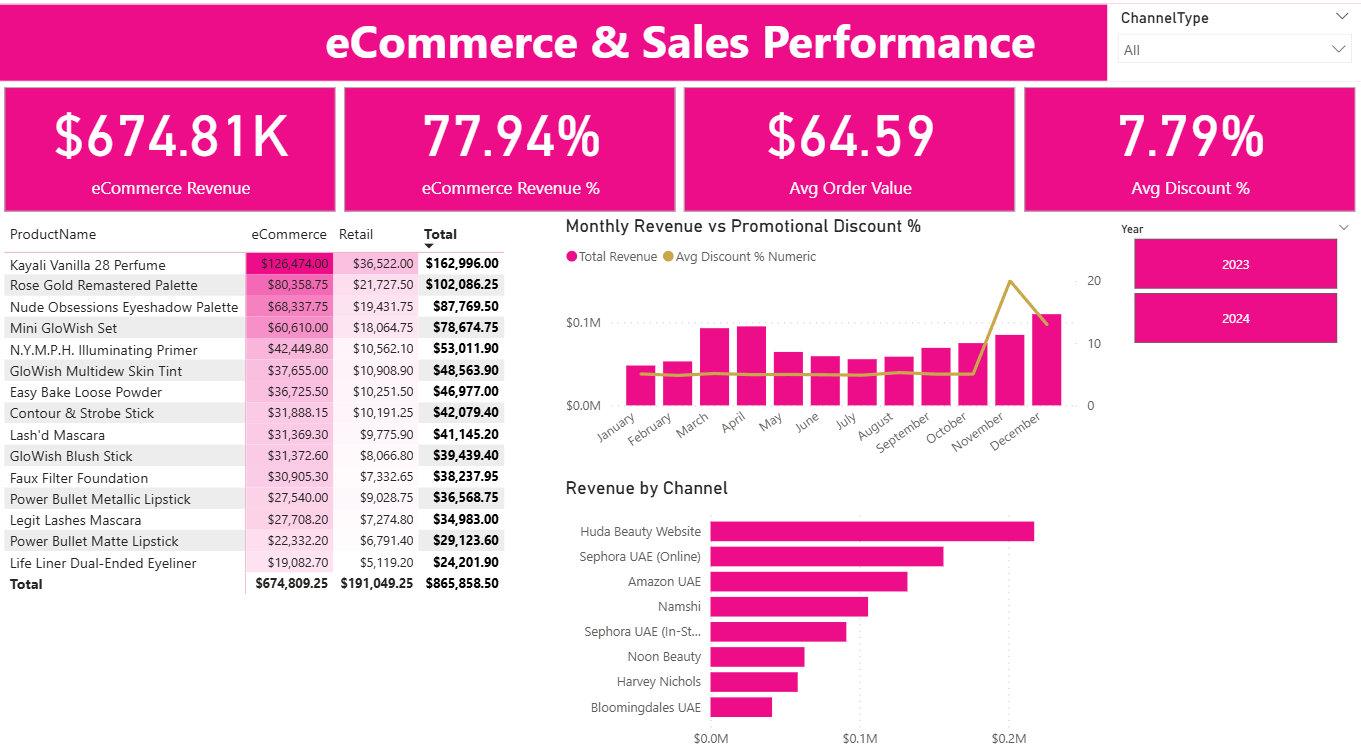

The page's visual inventory and layout, read from the dashboard file:
{"tool":"powerbi","page":{"name":"eCommerce & Sales Performance","canvas":[1280,720],"ordinal":1},"visuals":[{"type":"textbox","box":[0,12.5,1279.2,72.9],"z":0},{"type":"cardVisual","fields":{"Data":["00_Measures.eCommerce Revenue","00_Measures.eCommerce Revenue %","00_Measures.Avg Order Value","00_Measures.Avg Discount %"]},"box":[0,85.4,1279.2,127.1],"z":1000},{"type":"clusteredBarChart","title":"Revenue by Channel","fields":{"Y":["00_Measures.Total Revenue"],"Category":["DimChannel.ChannelName"]},"box":[527.1,456.2,512.5,264.6],"z":2000},{"type":"pivotTable","fields":{"Rows":["DimProduct.ProductName"],"Values":["00_Measures.Total Revenue"],"Columns":["DimChannel.ChannelType"]},"box":[0,212.5,527.1,377.1],"z":3000},{"type":"lineStackedColumnComboChart","title":"Monthly Revenue vs Promotional Discount %","fields":{"Category":["DimDate.MonthName"],"Y":["00_Measures.Total Revenue"],"Y2":["00_Measures.Avg Discount % Numeric"]},"box":[527.1,210.4,512.5,245.8],"z":4000},{"type":"slicer","fields":{"Values":["DimChannel.ChannelType"]},"box":[1039.6,12.5,239.6,72.9],"z":5000},{"type":"slicer","fields":{"Values":["DimDate.Year"]},"box":[1039.6,212.5,239.6,125],"z":6000}]}

Visuals, with their boxes in screenshot pixels (x1, y1, x2, y2), scaled from the page's 1280x720 canvas onto the 1361x753 screenshot:
textbox: detection(0, 13, 1360, 89)
cardVisual - 00_Measures.eCommerce Revenue x 00_Measures.eCommerce Revenue %: detection(0, 89, 1360, 222)
"Revenue by Channel" clusteredBarChart: detection(560, 477, 1105, 752)
pivotTable - DimProduct.ProductName x 00_Measures.Total Revenue: detection(0, 222, 560, 617)
"Monthly Revenue vs Promotional Discount %" lineStackedColumnComboChart: detection(560, 220, 1105, 477)
slicer - DimChannel.ChannelType: detection(1105, 13, 1360, 89)
slicer - DimDate.Year: detection(1105, 222, 1360, 353)
